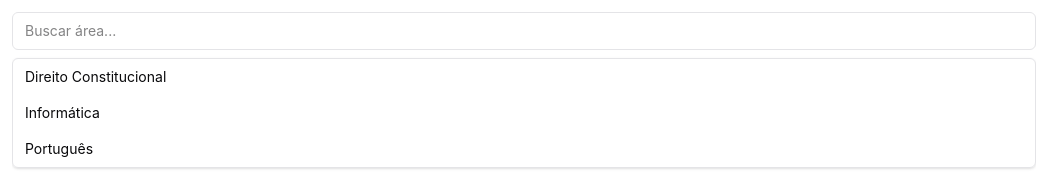
Scenario: AreasTags › filtra áreas pelo texto digitado no input
Expected: the list item "Informática" is shown, [25,104,100,121]
Step 1. Type "Info" into the field → (524, 31), box [12,12,1036,50]
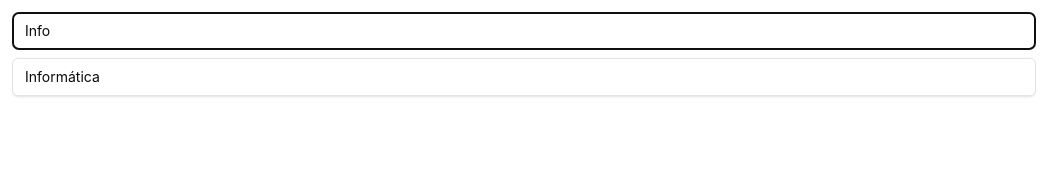
Expected: the list item "Informática" is shown, [25,68,100,85]
Now the list item "Português" is gone
